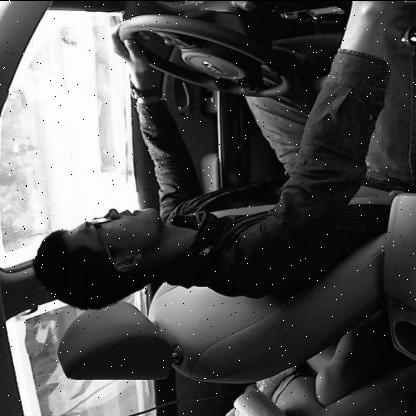seatbelt: (5, 174, 302, 330)
